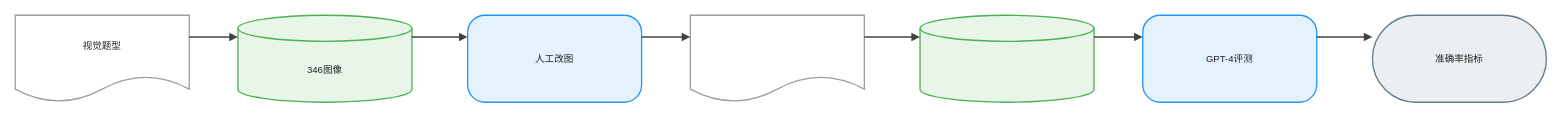
The diagram is 1563 pixels wide and 118 high, and some of its shapes have lost their labels. Each missing label, with the centre of its shape:
"控制题对" goes at pixel 1006 58.
"是/否问答" goes at pixel 777 58.
